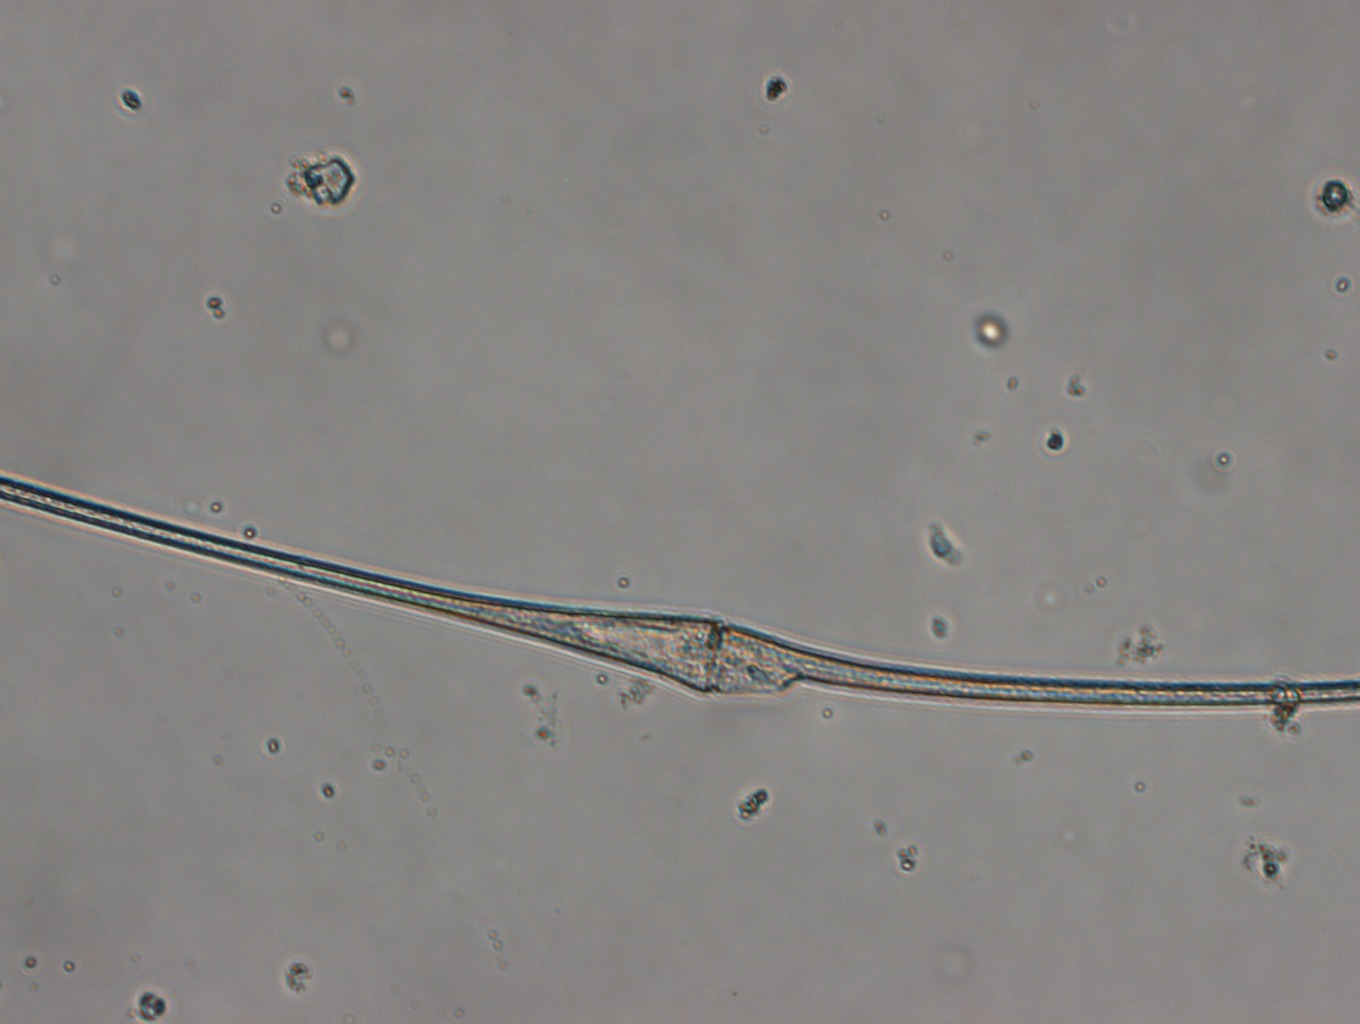ceratium fusus: (1, 469, 1360, 700)
